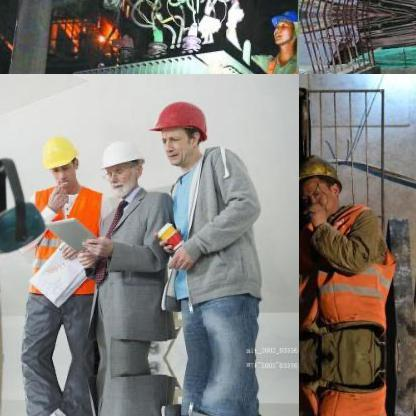Helmet: (148, 92, 212, 168), (299, 146, 346, 222), (94, 134, 144, 192), (39, 126, 83, 190), (268, 10, 298, 52)
